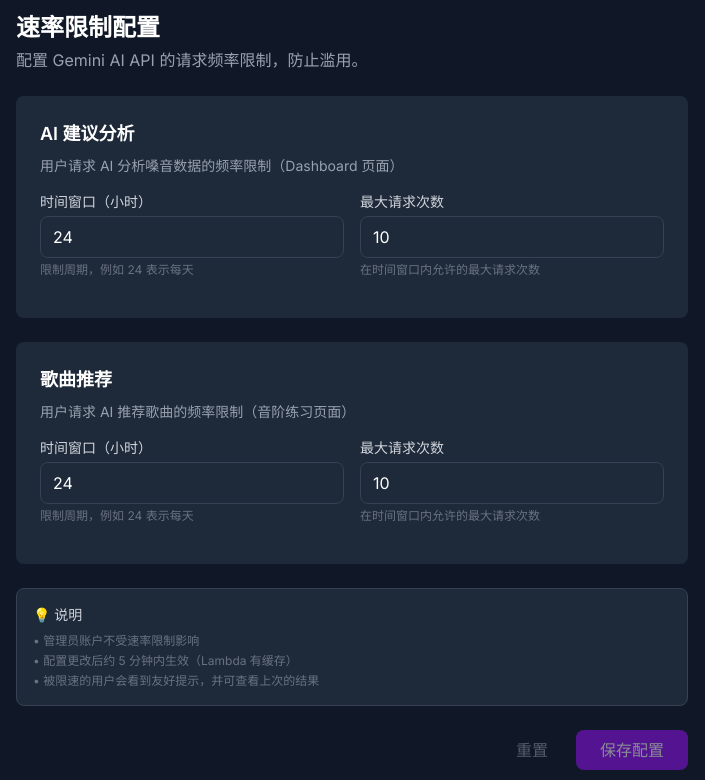
Test: RateLimitConfigPage 组件测试 › 交互功能 › 非法最大次数 -5 显示字段错误且不写配置
Step 1. Replace the text in the number field labelled "最大请求次数" below "用户请求 AI 分析嗓音数据的频率限制（Dashboard 页面）" with "-5" → [512, 237], box [360,216,664,258]
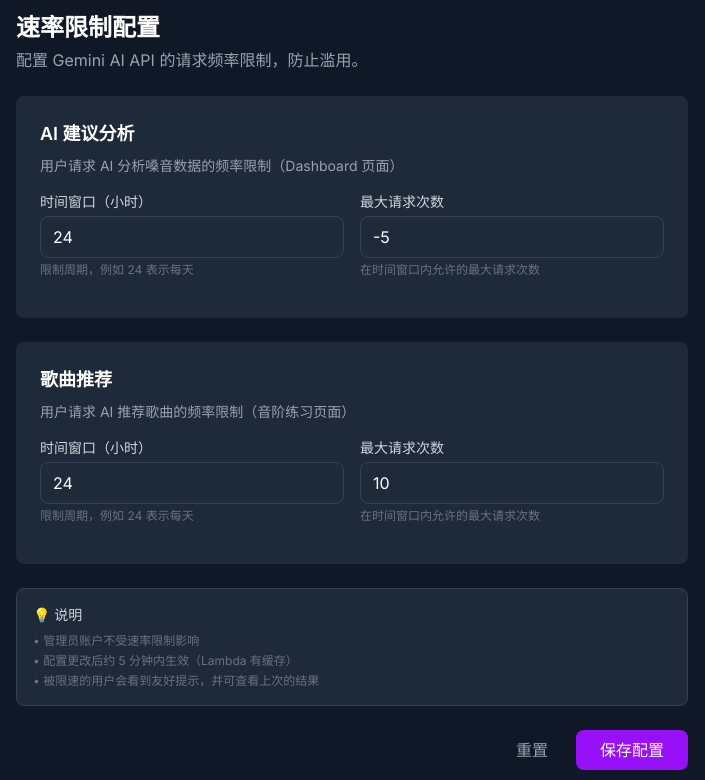
Step 2. Click the button "保存配置" → [632, 750], box [576,730,688,770]
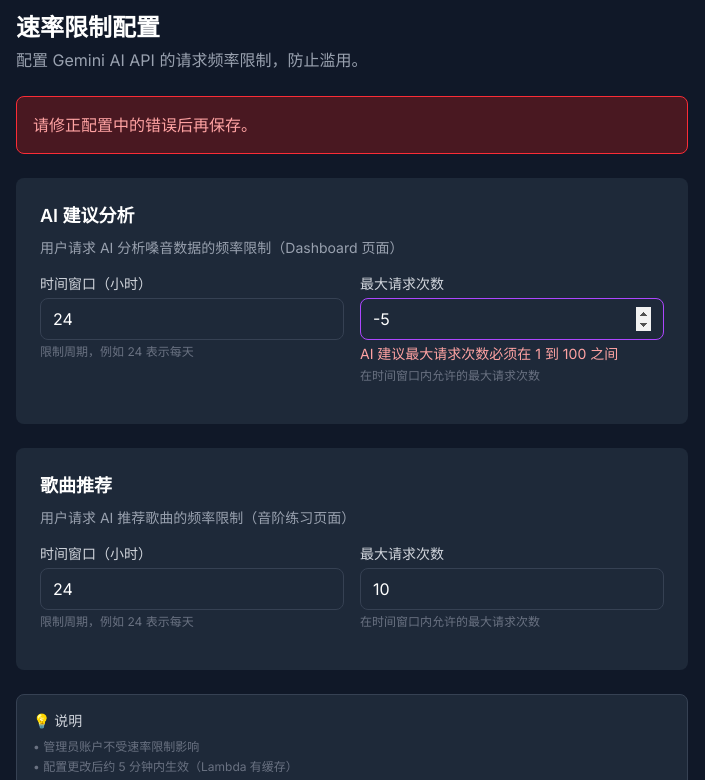
Expected: the text "必须在 1 到 100 之间" is shown, [360,345,618,362]
